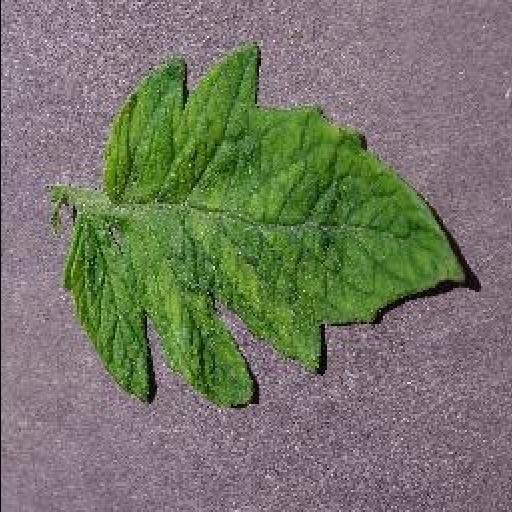Mosaic Virus: (58, 36, 470, 410)
